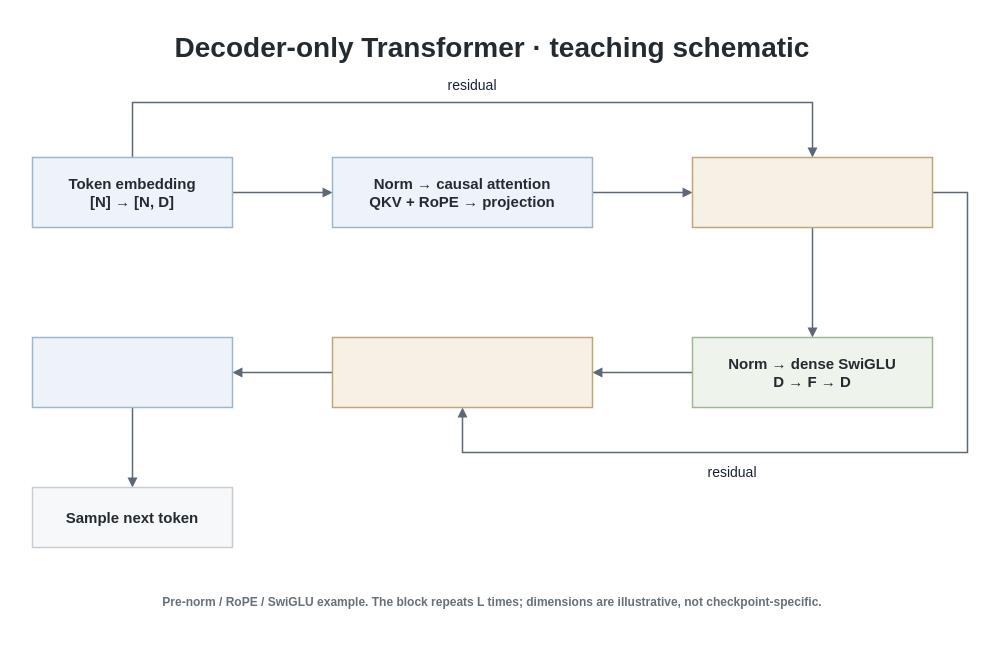
Some shapes in this 993 by 649 pixel diagram are drawn without their labels. The shapes that lost their labels are listed below. From the top down, each one's box as (x1, y1, x2, y2) in pixels, then its label:
(691, 156, 933, 228): Residual add x + Attention(Norm(x))
(31, 336, 233, 408): Final norm + LM head [D] → logits [V]
(331, 336, 593, 408): Residual add h + MLP(Norm(h))
